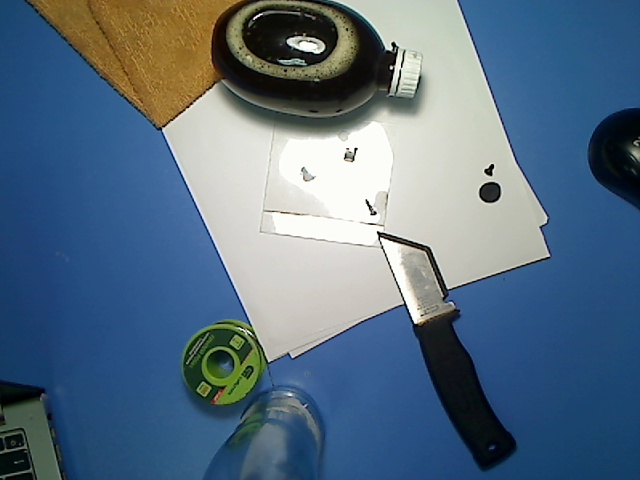plast_bottle: (207, 1, 426, 123)
